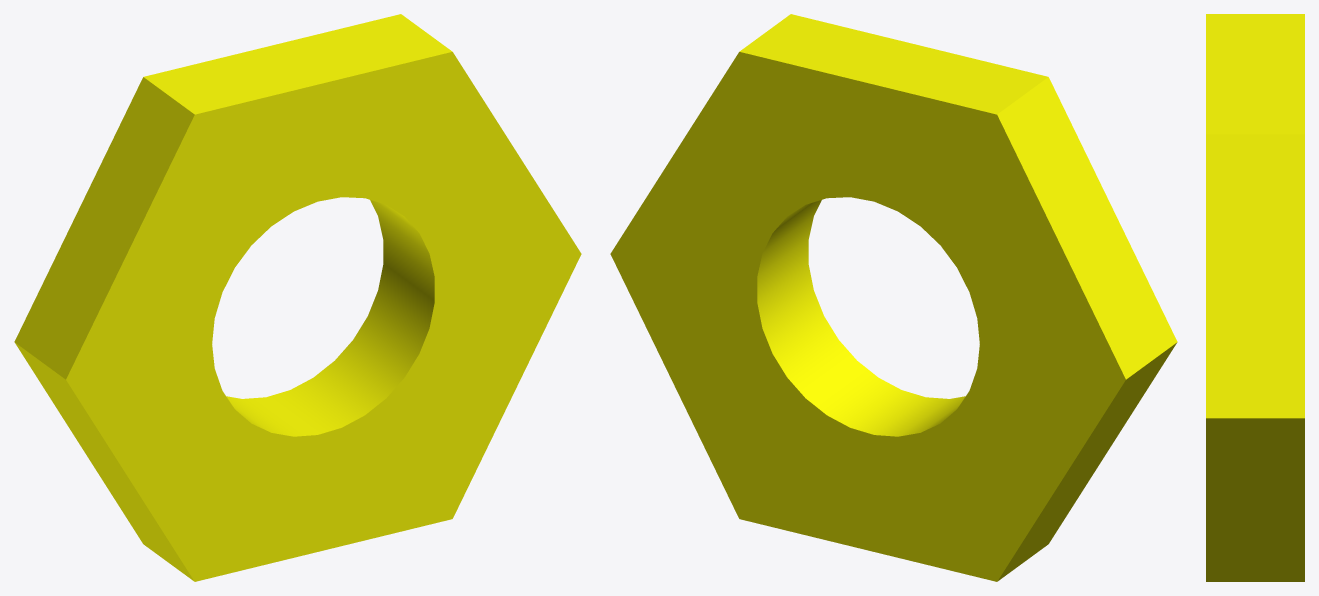
The model's file is bottom-square.glb.
3 renders of one model, left to right at view 1: azimuth 30°, elevation 25°; view 2: azimuth 150°, elevation 25°; view 3: azimuth 270°, elevation 25°, orthographic. The views are drawn at different scales.
Visible parts, largest first — view 1: Body1; view 2: Body1; view 3: Body1.
Boxes of the visible parts, left/top/right/bottom form: Body1: left=14, top=14, right=581, bottom=581; Body1: left=610, top=14, right=1177, bottom=581; Body1: left=1206, top=14, right=1304, bottom=581.
Bounding box in the file's own units: 1.15 × 1 × 0.2.
